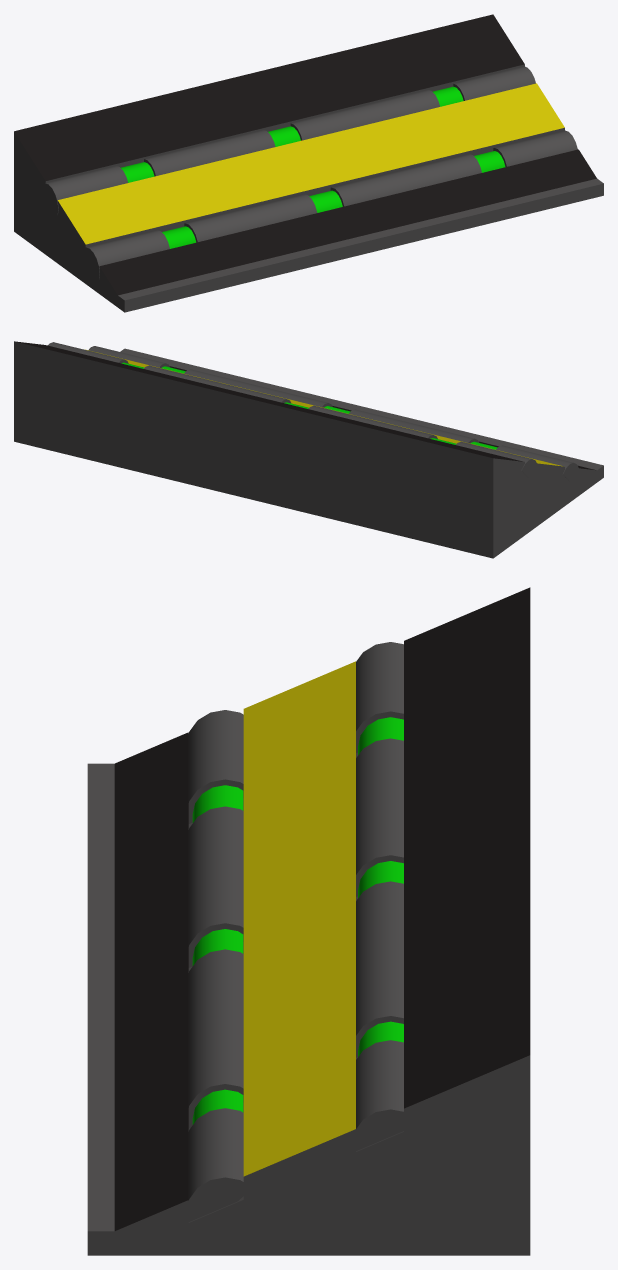
File: Robot_Floor_Edge.fbx
3 renders of one model, top to bottom at view 1: azimuth 30°, elevation 25°; view 2: azimuth 150°, elevation 25°; view 3: azimuth 270°, elevation 25°, orthographic. The views are drawn at different scales.
Parts seen in each view (by area): view 1: pCube96, pCylinder60, pCylinder59; view 2: pCube96, pCylinder60, pCylinder59; view 3: pCube96, pCylinder60, pCylinder59.
Boxes of the visible parts, bbox=[...] form: pCube96: bbox=[14, 14, 603, 312]; pCylinder60: bbox=[83, 130, 577, 279]; pCylinder59: bbox=[41, 66, 535, 215]; pCube96: bbox=[14, 341, 603, 558]; pCylinder60: bbox=[88, 346, 579, 481]; pCylinder59: bbox=[48, 342, 538, 478]; pCube96: bbox=[87, 587, 530, 1255]; pCylinder60: bbox=[188, 710, 243, 1221]; pCylinder59: bbox=[356, 642, 403, 1151].
Bounding box in the file's own units: 5 × 2 × 1.
